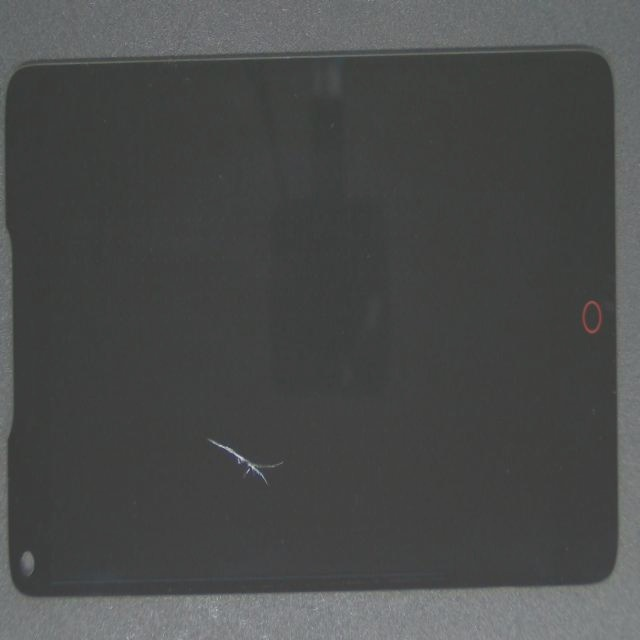scratch: (163, 251, 413, 640)
